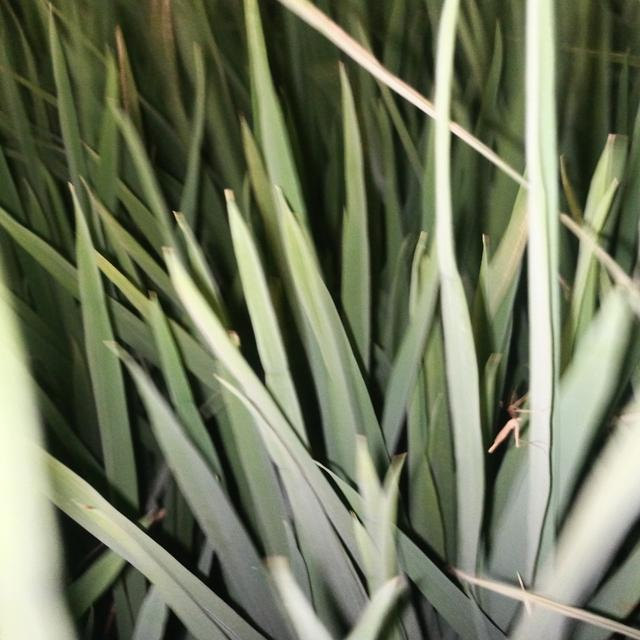green leaf hopper: (486, 377, 561, 474)
